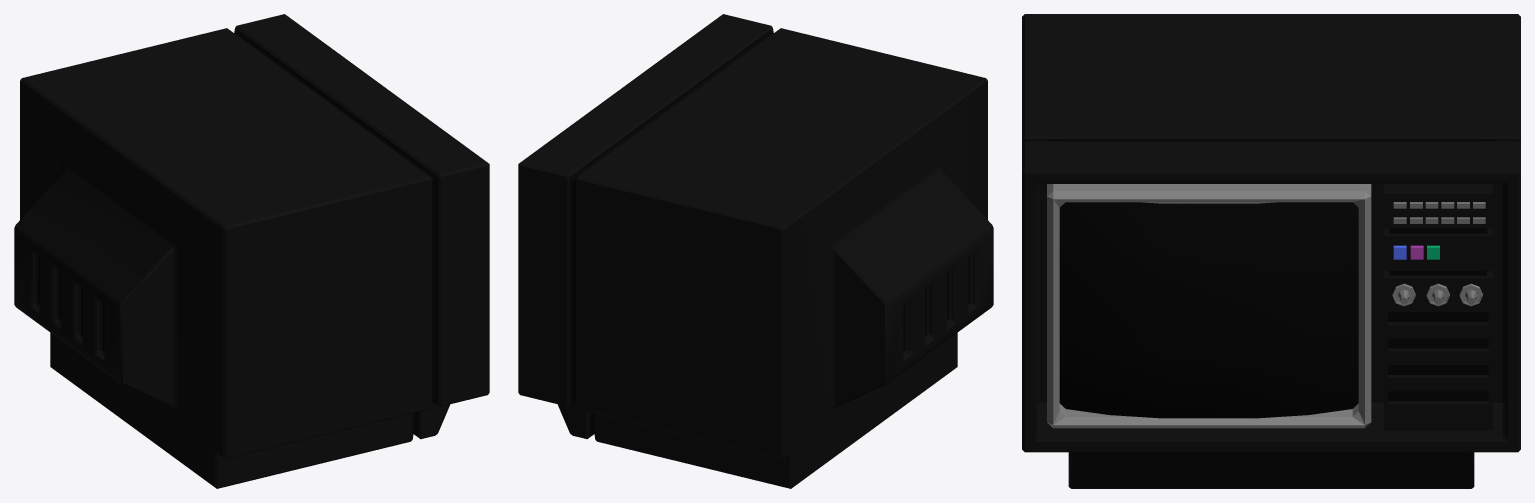
The model's file is TV_CRT_03.glb.
3 renders of one model, left to right at view 1: azimuth 30°, elevation 25°; view 2: azimuth 150°, elevation 25°; view 3: azimuth 270°, elevation 25°, orthographic. The views are drawn at different scales.
Visible parts, largest first — view 1: Mesh_TV_CRT_03; view 2: Mesh_TV_CRT_03; view 3: Mesh_TV_CRT_03.
Part boxes in pixels (bbox=[...]): Mesh_TV_CRT_03: bbox=[14, 14, 489, 488]; Mesh_TV_CRT_03: bbox=[518, 14, 993, 488]; Mesh_TV_CRT_03: bbox=[1022, 14, 1520, 488].
Size of the model in its own units: 0.7586 by 0.6 by 0.8.
Materials: 1 (1 with a texture image).
